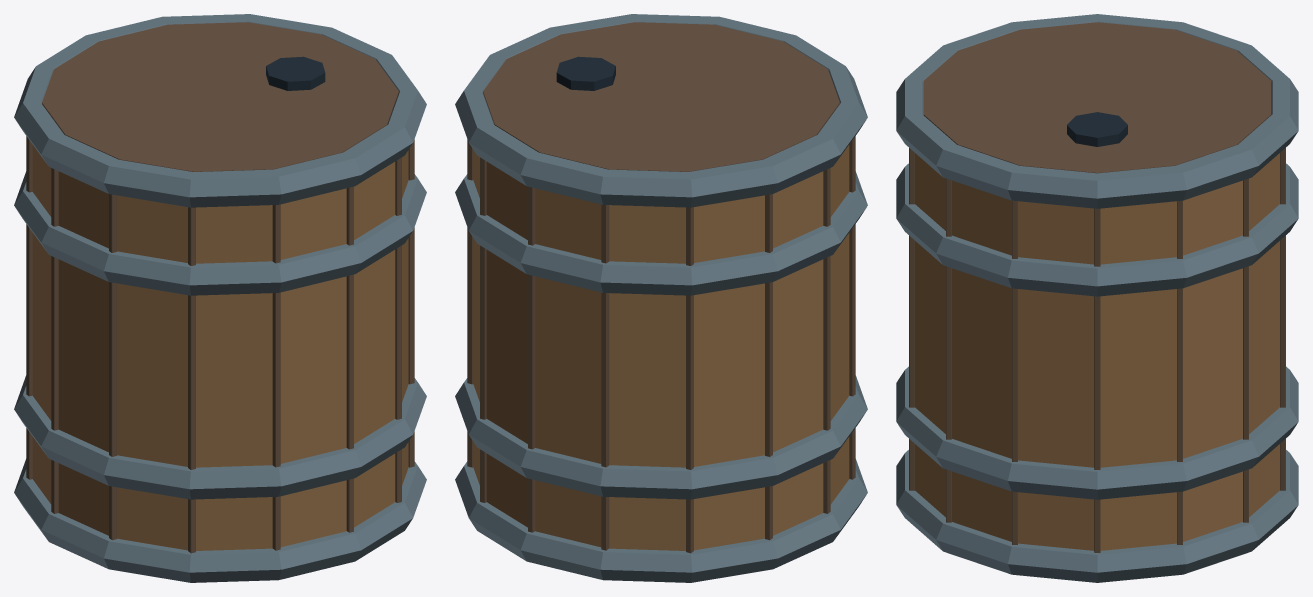
File: props-barrel-wood.lod0.glb
3 renders of one model, left to right at view 1: azimuth 30°, elevation 25°; view 2: azimuth 150°, elevation 25°; view 3: azimuth 270°, elevation 25°, orthographic.
Parts seen in each view (by area): view 1: props-barrel-wood__body; view 2: props-barrel-wood__body; view 3: props-barrel-wood__body.
Boxes of the visible parts, bbox=[...] form: props-barrel-wood__body: bbox=[14, 14, 426, 582]; props-barrel-wood__body: bbox=[455, 14, 867, 582]; props-barrel-wood__body: bbox=[896, 14, 1298, 582].
Size of the model in its own units: 0.81 by 0.8903 by 0.7897.
